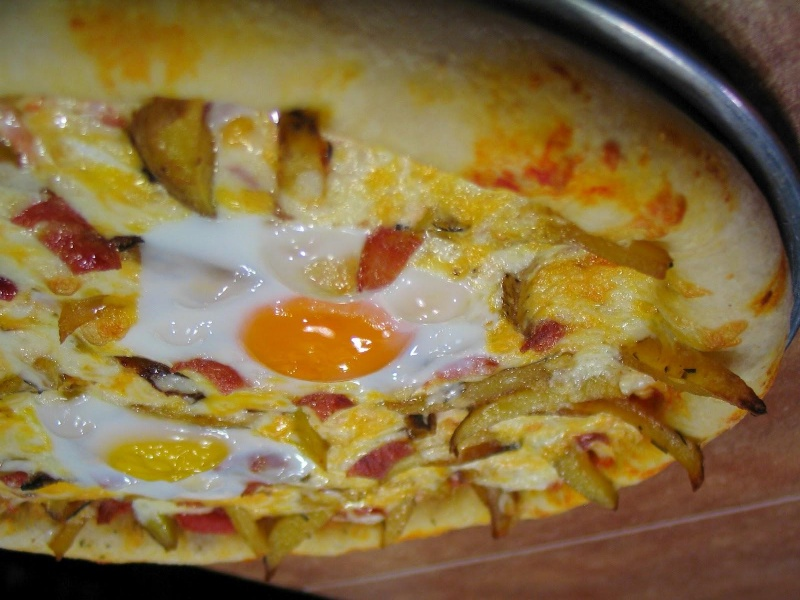oeuf: (229, 284, 428, 394), (92, 425, 254, 485)
